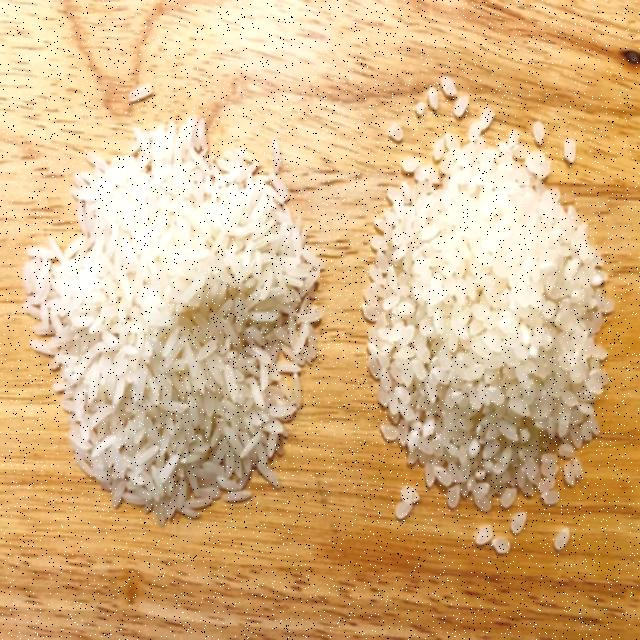Rice: (359, 55, 633, 610), (28, 83, 314, 554)
